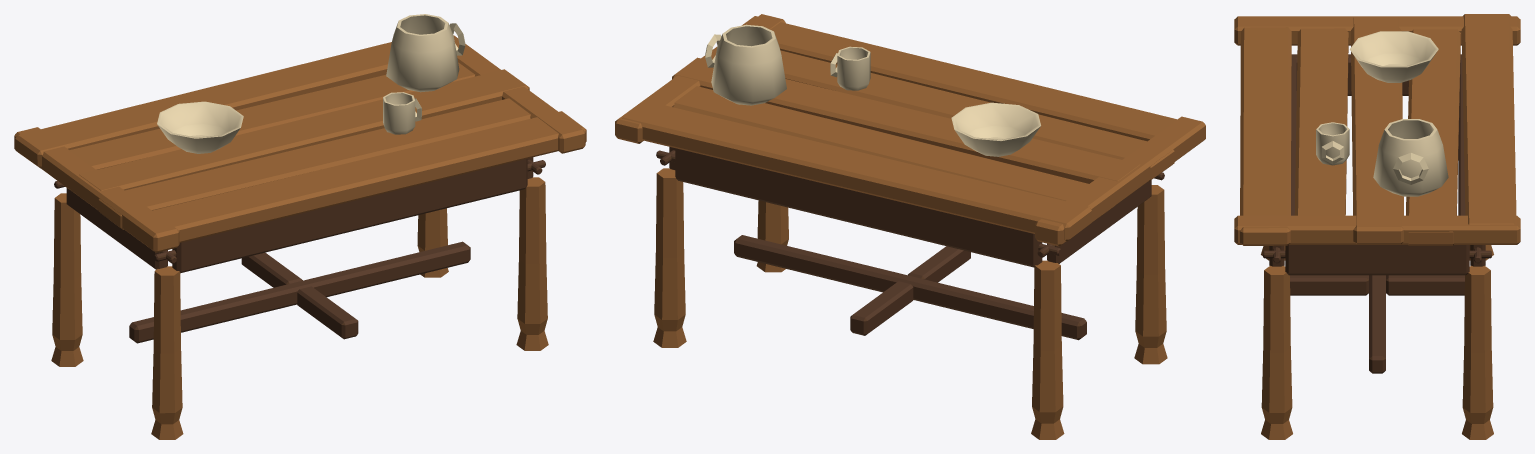
Rendered from prop_table_dining_a.glb.
3 renders of one model, left to right at view 1: azimuth 30°, elevation 25°; view 2: azimuth 150°, elevation 25°; view 3: azimuth 270°, elevation 25°, orthographic. The views are drawn at different scales.
Parts seen in each view (by area): view 1: table_breadboard_1, table_apron_back, table_ceramic_bowl; view 2: table_breadboard_1, table_apron_back, table_ceramic_bowl; view 3: table_breadboard_1, table_apron_back, table_ceramic_bowl.
Part boxes in pixels (x1,y1,x2,y2): table_breadboard_1: (14,35,586,439); table_apron_back: (54,157,545,343); table_ceramic_bowl: (157,14,465,153); table_breadboard_1: (615,14,1205,439); table_apron_back: (656,147,1164,340); table_ceramic_bowl: (705,24,1040,156); table_breadboard_1: (1234,14,1520,439); table_apron_back: (1263,54,1491,373); table_ceramic_bowl: (1316,31,1448,196).
Size of the model in its own units: 1.83 by 1.12 by 1.03.
